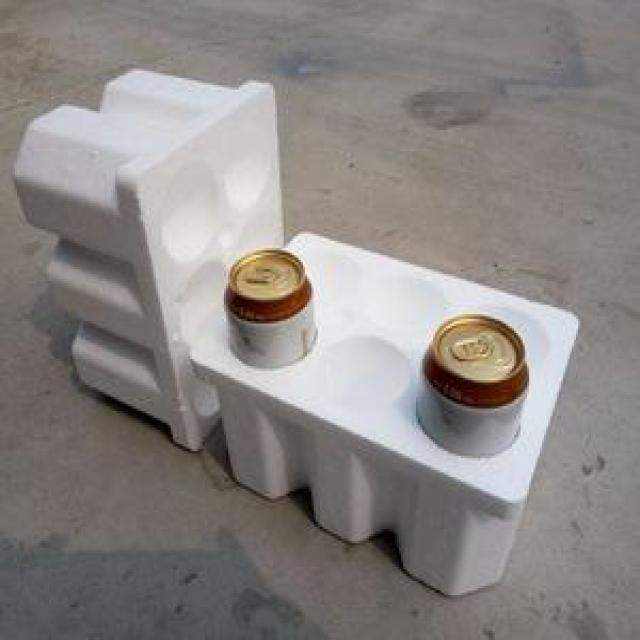styrofoam: (179, 227, 580, 595), (10, 64, 284, 451)
